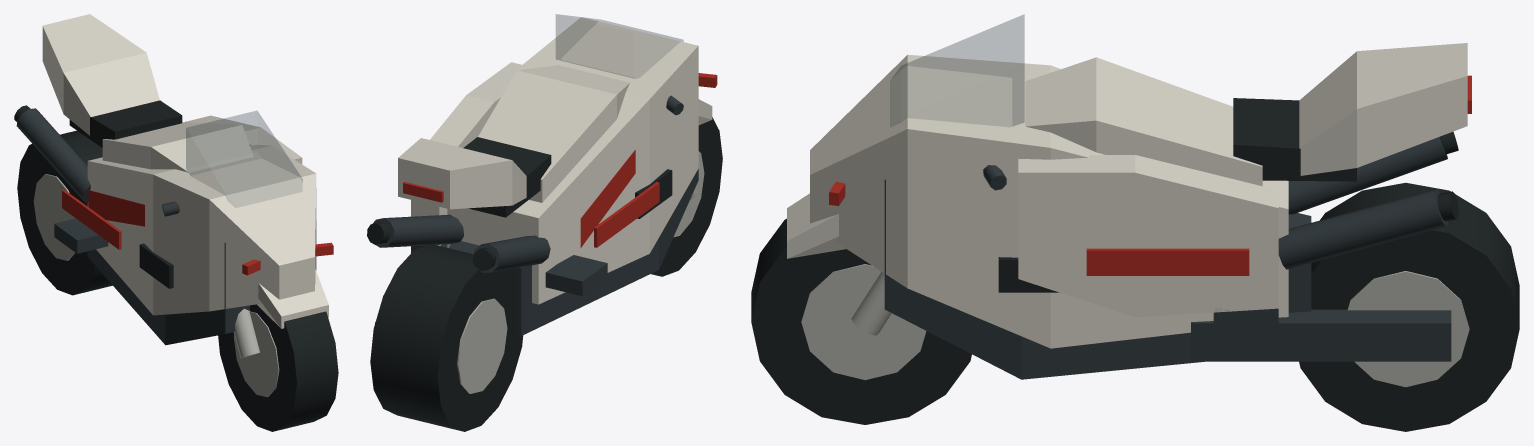
The picture shows the model from 3 angles, left to right: view 1: azimuth 30°, elevation 25°; view 2: azimuth 150°, elevation 25°; view 3: azimuth 270°, elevation 25°; orthographic projection. The views are drawn at different scales.
Parts seen in each view (by area): view 1: motorcycle-fleet-armor, front-wheel-fleet-rubber, motorcycle-fleet-glass, motorcycle-fleet-machine, rear-wheel-fleet-rubber, motorcycle-fleet-rubber, motorcycle-fleet-red, front-wheel-fleet-edge, rear-wheel-fleet-edge, breakaway-2-painted, breakaway-1-painted, steering-fleet-edge; view 2: motorcycle-fleet-armor, rear-wheel-fleet-rubber, motorcycle-fleet-machine, motorcycle-fleet-glass, motorcycle-fleet-red, motorcycle-fleet-rubber, rear-wheel-fleet-edge, front-wheel-fleet-rubber, breakaway-1-painted, front-wheel-fleet-edge; view 3: motorcycle-fleet-armor, motorcycle-fleet-machine, breakaway-1-painted, rear-wheel-fleet-rubber, front-wheel-fleet-rubber, motorcycle-fleet-glass, front-wheel-fleet-edge, motorcycle-fleet-rubber, rear-wheel-fleet-edge, motorcycle-fleet-red, breakaway-2-painted, steering-fleet-edge.
Part boxes in pixels (x1,y1,x2,y2): motorcycle-fleet-armor: (42, 14, 316, 315); front-wheel-fleet-rubber: (218, 304, 338, 431); motorcycle-fleet-glass: (186, 111, 302, 207); motorcycle-fleet-machine: (16, 108, 316, 345); rear-wheel-fleet-rubber: (17, 130, 112, 295); motorcycle-fleet-rubber: (14, 100, 182, 288); motorcycle-fleet-red: (62, 190, 333, 275); front-wheel-fleet-edge: (233, 311, 279, 397); rear-wheel-fleet-edge: (33, 174, 75, 260); breakaway-2-painted: (257, 269, 328, 328); breakaway-1-painted: (185, 115, 302, 164); steering-fleet-edge: (233, 308, 259, 357); motorcycle-fleet-armor: (398, 17, 698, 304); rear-wheel-fleet-rubber: (370, 244, 523, 431); motorcycle-fleet-machine: (372, 169, 698, 335); motorcycle-fleet-glass: (556, 14, 683, 78); motorcycle-fleet-red: (403, 73, 717, 247); motorcycle-fleet-rubber: (367, 137, 672, 270); rear-wheel-fleet-edge: (457, 298, 507, 393); front-wheel-fleet-rubber: (651, 117, 722, 276); breakaway-1-painted: (411, 62, 521, 245); front-wheel-fleet-edge: (673, 151, 704, 237); motorcycle-fleet-armor: (810, 43, 1467, 348); motorcycle-fleet-machine: (884, 136, 1451, 379); breakaway-1-painted: (1018, 155, 1278, 317); rear-wheel-fleet-rubber: (1299, 182, 1519, 431); front-wheel-fleet-rubber: (751, 218, 971, 424); motorcycle-fleet-glass: (890, 14, 1024, 126); front-wheel-fleet-edge: (801, 264, 926, 380); motorcycle-fleet-rubber: (998, 98, 1458, 292); rear-wheel-fleet-edge: (1347, 271, 1469, 387); motorcycle-fleet-red: (829, 75, 1471, 275); breakaway-2-painted: (787, 193, 845, 258); steering-fleet-edge: (851, 272, 891, 335).
Bounding box in the file's own units: 4.29 × 6.6 × 12.37.
